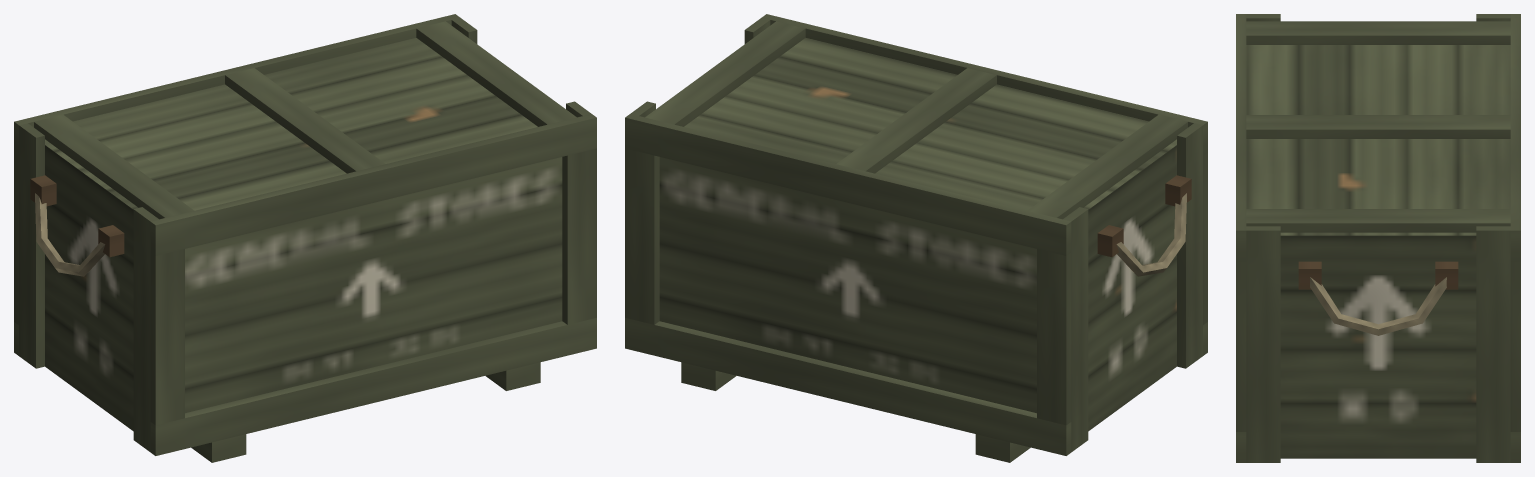
The model's file is crate_military.fbx.
The picture shows the model from 3 angles, left to right: view 1: azimuth 30°, elevation 25°; view 2: azimuth 150°, elevation 25°; view 3: azimuth 270°, elevation 25°; orthographic projection.
Parts seen in each view (by area): view 1: crate_military; view 2: crate_military; view 3: crate_military.
Part boxes in pixels (x1,y1,x2,y2): crate_military: (14,14,596,462); crate_military: (625,14,1207,462); crate_military: (1236,14,1520,462).
Size of the model in its own units: 1.02 by 0.49 by 0.5.
Materials: 1 (1 with a texture image).
